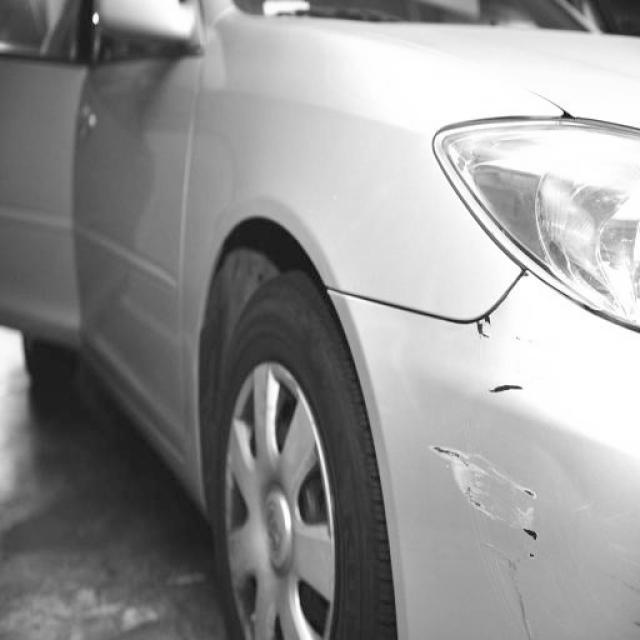car damage: (431, 445, 539, 541), (484, 542, 532, 637), (476, 312, 494, 340), (486, 382, 524, 394)
